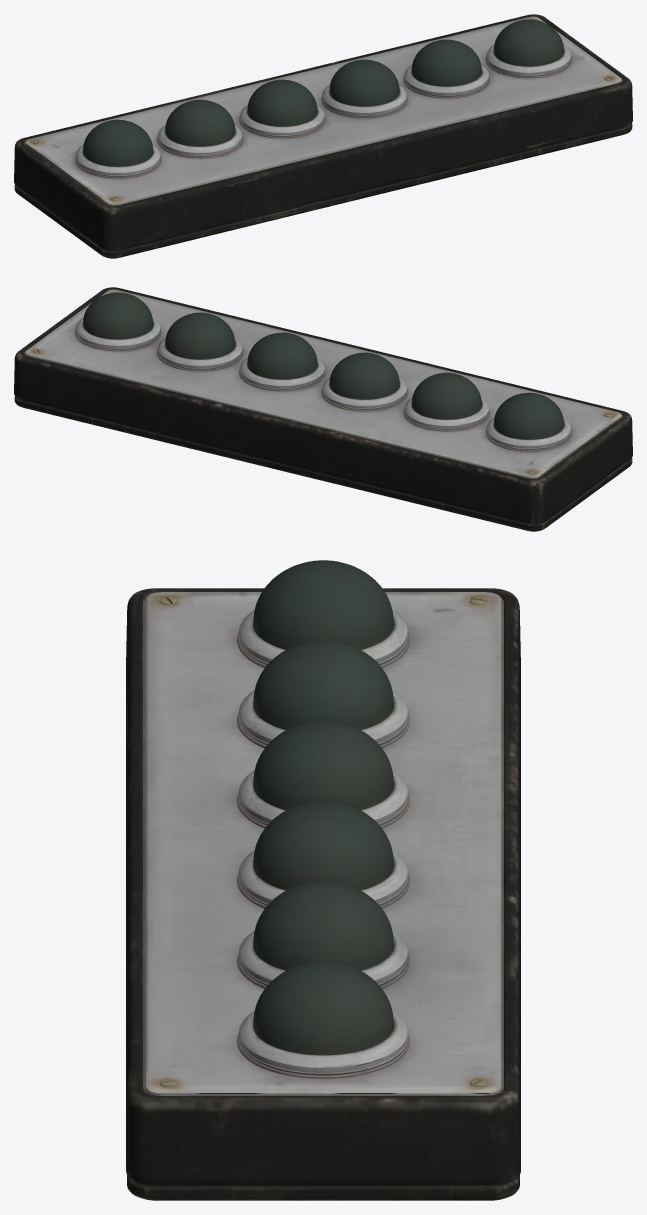
Rendered from lampade.glb.
3 renders of one model, top to bottom at view 1: azimuth 30°, elevation 25°; view 2: azimuth 150°, elevation 25°; view 3: azimuth 270°, elevation 25°, orthographic. The views are drawn at different scales.
Visible parts, largest first — view 1: Upper case • radiused steel pressing, Faceplate • brushed aluminium, Lower case • return-fold tray, Lamp_4, Lamp_3, Lamp_2, Lamp_5, Lamp_6, Lamp_1, Socket 02 • rolled chrome bezel, Socket 04 • rolled chrome bezel, Socket 03 • rolled chrome bezel (+5 smaller); view 2: Upper case • radiused steel pressing, Faceplate • brushed aluminium, Lower case • return-fold tray, Lamp_4, Lamp_3, Lamp_2, Lamp_5, Lamp_6, Lamp_1, Socket 02 • rolled chrome bezel, Socket 04 • rolled chrome bezel, Socket 03 • rolled chrome bezel (+5 smaller); view 3: Faceplate • brushed aluminium, Upper case • radiused steel pressing, Lamp_6, Lamp_1, Lamp_2, Lamp_4, Lamp_3, Lamp_5, Lower case • return-fold tray, Socket 06 • rolled chrome bezel, Faceplate • perimeter bedding, Socket 03 • rolled chrome bezel (+4 smaller).
Part boxes in pixels (left/top/right/bottom): Upper case • radiused steel pressing: left=14, top=14, right=632, bottom=250; Faceplate • brushed aluminium: left=25, top=16, right=621, bottom=205; Lower case • return-fold tray: left=14, top=123, right=632, bottom=258; Lamp_4: left=329, top=59, right=399, bottom=106; Lamp_3: left=247, top=79, right=317, bottom=126; Lamp_2: left=165, top=99, right=235, bottom=146; Lamp_5: left=411, top=39, right=481, bottom=86; Lamp_6: left=494, top=19, right=563, bottom=66; Lamp_1: left=83, top=119, right=152, bottom=166; Socket 02 • rolled chrome bezel: left=158, top=125, right=242, bottom=156; Socket 04 • rolled chrome bezel: left=322, top=84, right=406, bottom=116; Socket 03 • rolled chrome bezel: left=240, top=105, right=324, bottom=136; Upper case • radiused steel pressing: left=14, top=287, right=632, bottom=523; Faceplate • brushed aluminium: left=25, top=289, right=621, bottom=478; Lower case • return-fold tray: left=14, top=396, right=632, bottom=531; Lamp_4: left=247, top=332, right=317, bottom=379; Lamp_3: left=329, top=352, right=399, bottom=399; Lamp_2: left=411, top=372, right=481, bottom=419; Lamp_5: left=165, top=312, right=235, bottom=359; Lamp_6: left=83, top=292, right=152, bottom=339; Lamp_1: left=494, top=392, right=563, bottom=439; Socket 02 • rolled chrome bezel: left=404, top=398, right=488, bottom=429; Socket 04 • rolled chrome bezel: left=240, top=357, right=324, bottom=389; Socket 03 • rolled chrome bezel: left=322, top=378, right=406, bottom=409; Faceplate • brushed aluminium: left=145, top=592, right=501, bottom=1095; Upper case • radiused steel pressing: left=126, top=588, right=520, bottom=1184; Lamp_6: left=253, top=961, right=393, bottom=1055; Lamp_1: left=253, top=560, right=393, bottom=649; Lamp_2: left=253, top=640, right=393, bottom=729; Lamp_4: left=253, top=801, right=393, bottom=890; Lamp_3: left=253, top=720, right=393, bottom=810; Lamp_5: left=253, top=881, right=393, bottom=970; Lower case • return-fold tray: left=127, top=1175, right=519, bottom=1200; Socket 06 • rolled chrome bezel: left=239, top=1011, right=407, bottom=1075; Faceplate • perimeter bedding: left=143, top=597, right=503, bottom=1095; Socket 03 • rolled chrome bezel: left=239, top=770, right=407, bottom=825.
Bounding box in the file's own units: 2 × 0.3226 × 0.6452.
1 material, 1 textured.
